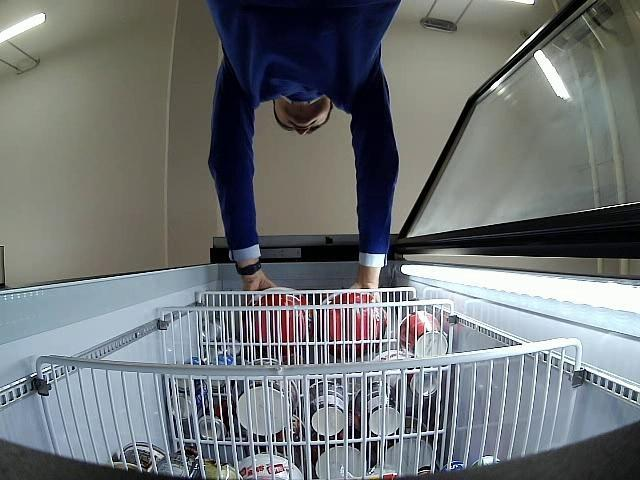10_wangTtukkeong: (321, 289, 386, 354), (255, 288, 308, 344)
